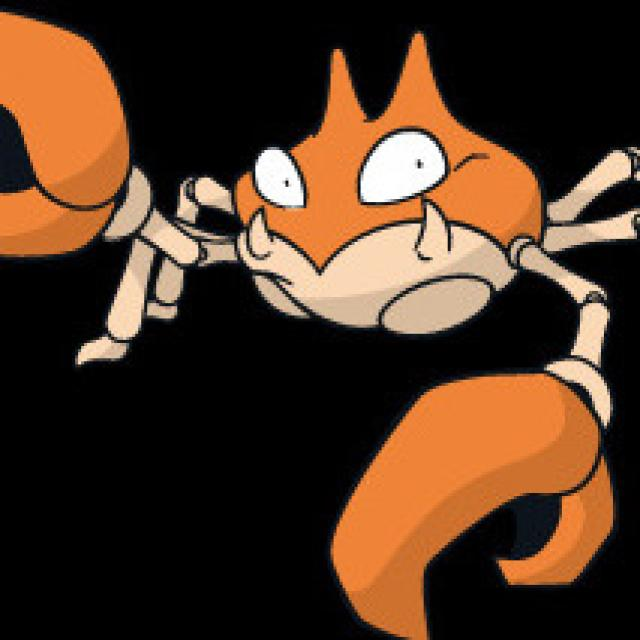Krabby: (0, 7, 610, 364)
